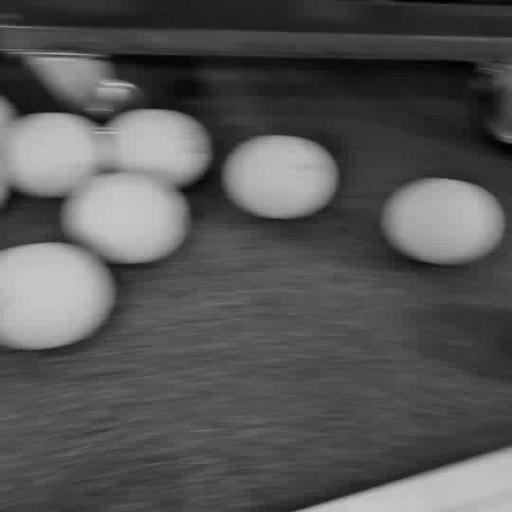fuel: (0, 243, 116, 349), (61, 172, 190, 263), (381, 178, 504, 265), (222, 136, 338, 219), (108, 109, 212, 187), (6, 114, 100, 197), (20, 54, 110, 105), (0, 96, 15, 142), (0, 160, 9, 208)
